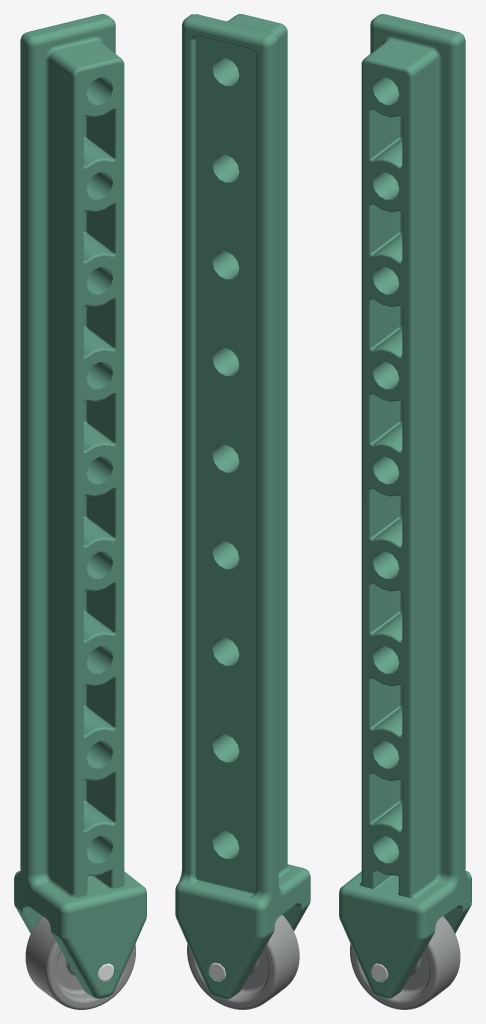
Rendered from camfollower.fbx.
3 views of the same model, side by side, from view 1: azimuth 30°, elevation 25°; view 2: azimuth 150°, elevation 25°; view 3: azimuth 330°, elevation 25° (orthographic).
Parts seen in each view (by area): view 1: Cam Follower; view 2: Cam Follower; view 3: Cam Follower.
Boxes of the visible parts, x1,y1,x2,y2 form: Cam Follower: (14, 14, 146, 1009); Cam Follower: (175, 14, 310, 1009); Cam Follower: (339, 14, 471, 1009).
Bounding box in the file's own units: 1270 × 1245 × 12953.
